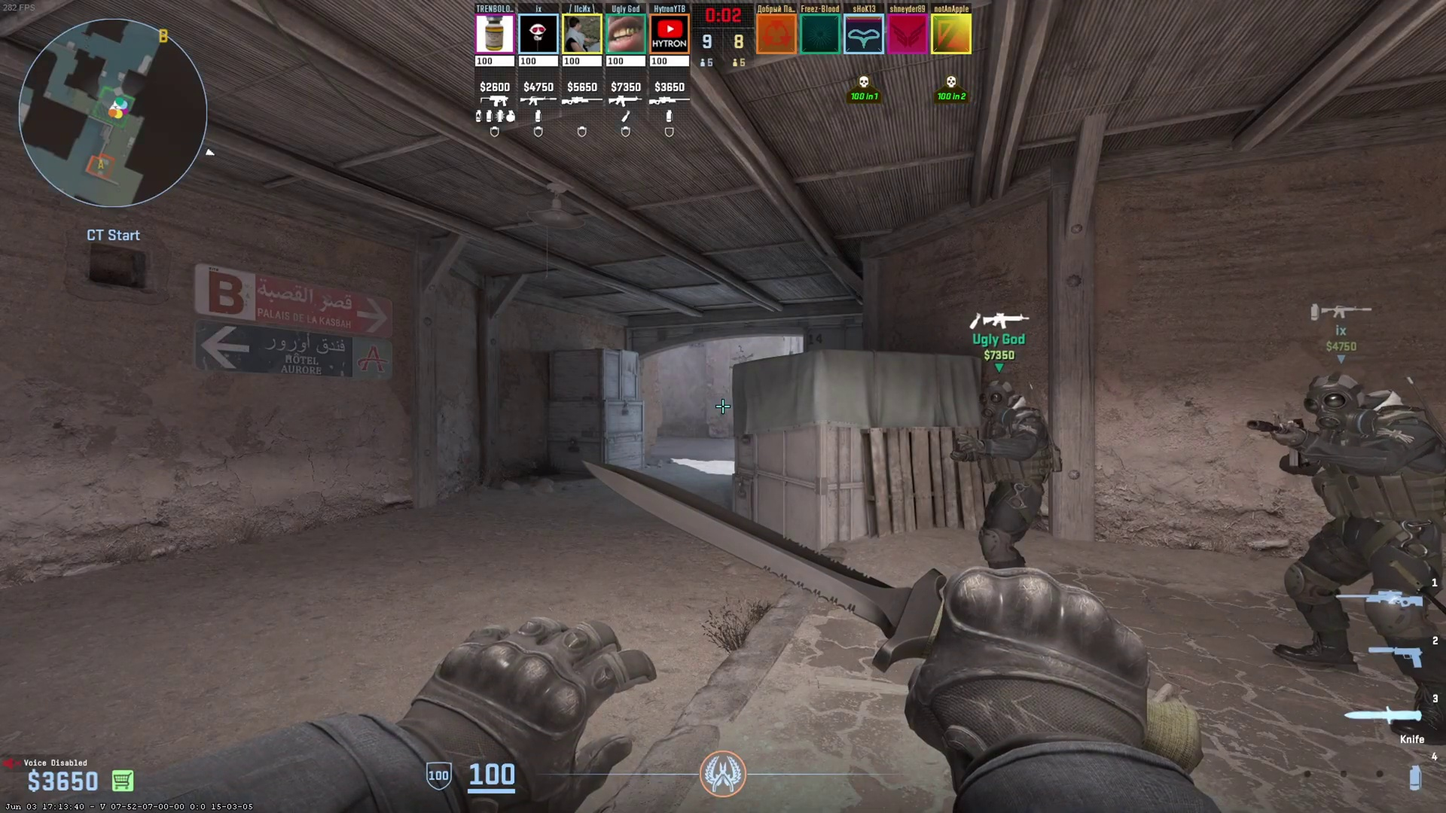CT: (1285, 373, 1445, 745), (967, 379, 1047, 566)
